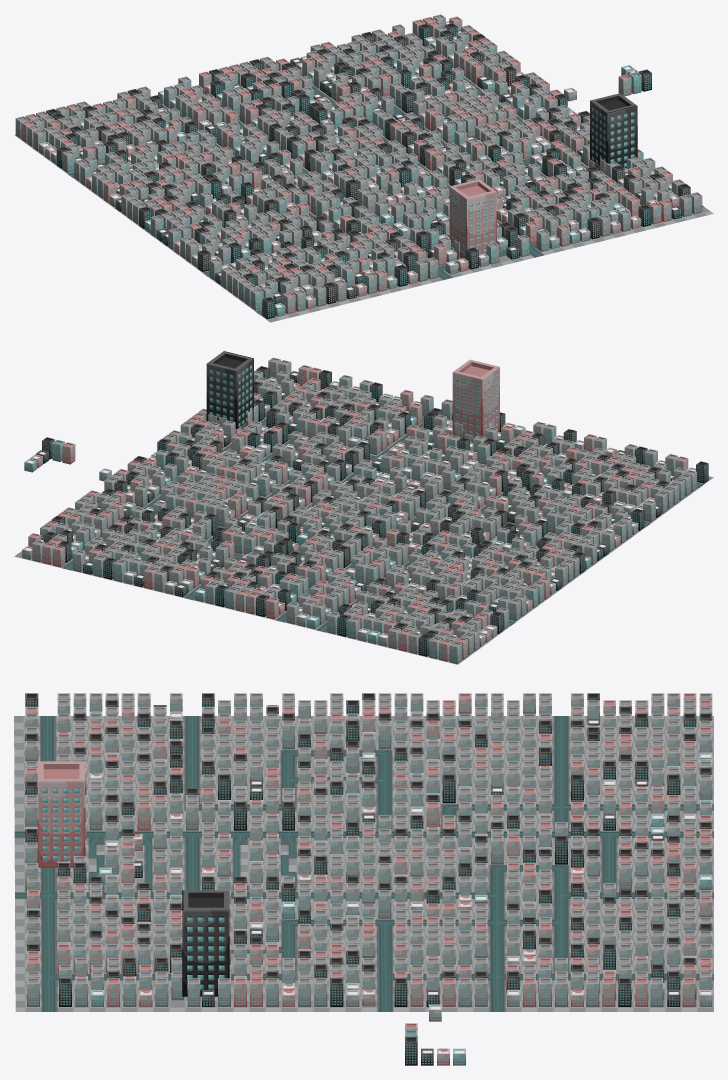
Rendered from level 1_sf.glb.
The picture shows the model from 3 angles, top to bottom: view 1: azimuth 30°, elevation 25°; view 2: azimuth 150°, elevation 25°; view 3: azimuth 270°, elevation 25°; orthographic projection. The views are drawn at different scales.
Parts seen in each view (by area): view 1: SMALL.806, Plane; view 2: SMALL.806, Plane; view 3: SMALL.806, Plane.
Boxes of the visible parts, box(x1,y1,x2,y2) form: SMALL.806: box(15, 14, 702, 319); Plane: box(14, 46, 713, 322); SMALL.806: box(22, 351, 708, 664); Plane: box(14, 385, 713, 664); SMALL.806: box(25, 693, 712, 1065); Plane: box(14, 716, 713, 1011).
Size of the model in its own units: 515 by 62.86 by 436.
9 materials, 9 textured.
